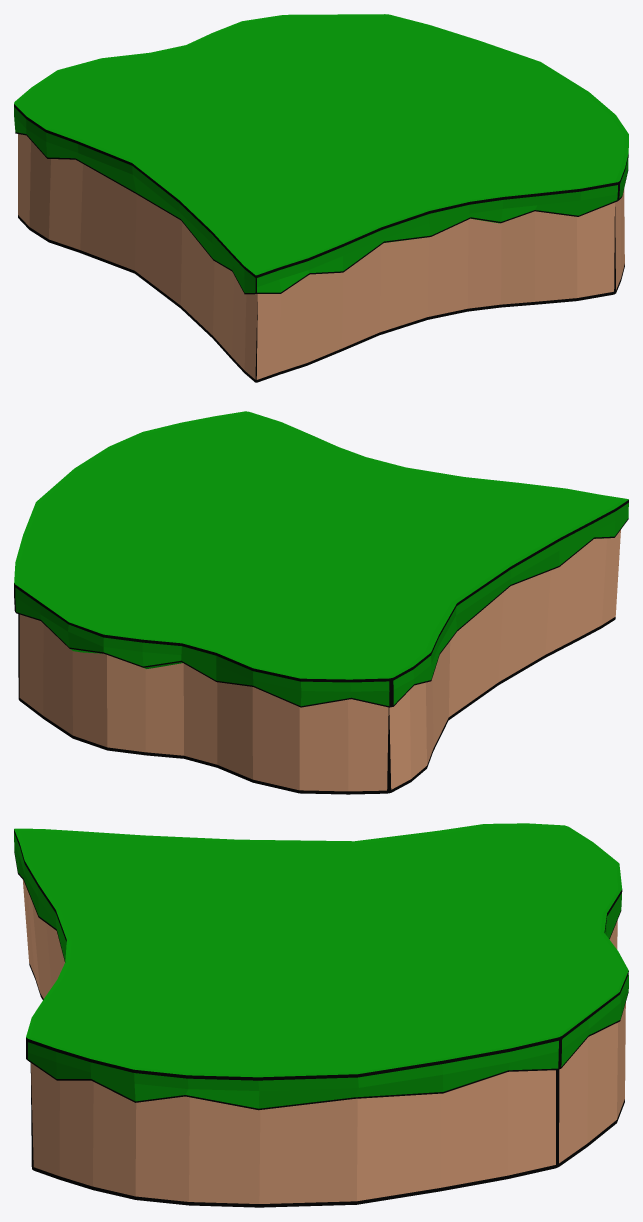
File: CardboardPlatform04.fbx
The picture shows the model from 3 angles, top to bottom: view 1: azimuth 30°, elevation 25°; view 2: azimuth 150°, elevation 25°; view 3: azimuth 270°, elevation 25°; orthographic projection. The views are drawn at different scales.
Parts seen in each view (by area): view 1: Cube.021; view 2: Cube.021; view 3: Cube.021.
Part boxes in pixels (x1=…): Cube.021: x1=14, y1=14, x2=628, y2=382; Cube.021: x1=14, y1=411, x2=628, y2=794; Cube.021: x1=14, y1=823, x2=628, y2=1207.
Bounding box in the file's own units: 5658 × 1377 × 5784.
